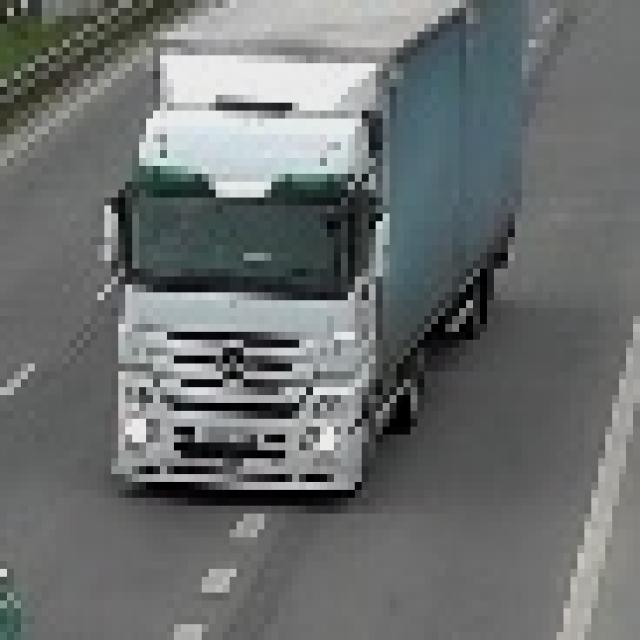TRUCK: (97, 0, 508, 506)
